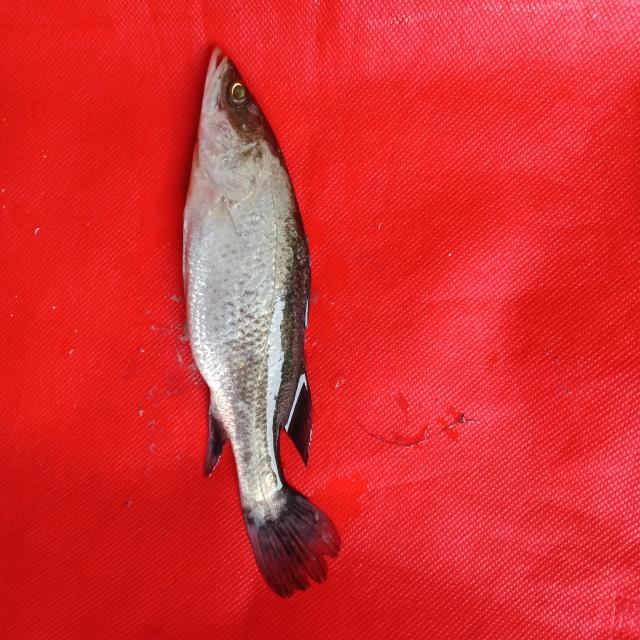ikan: (171, 30, 363, 612)
